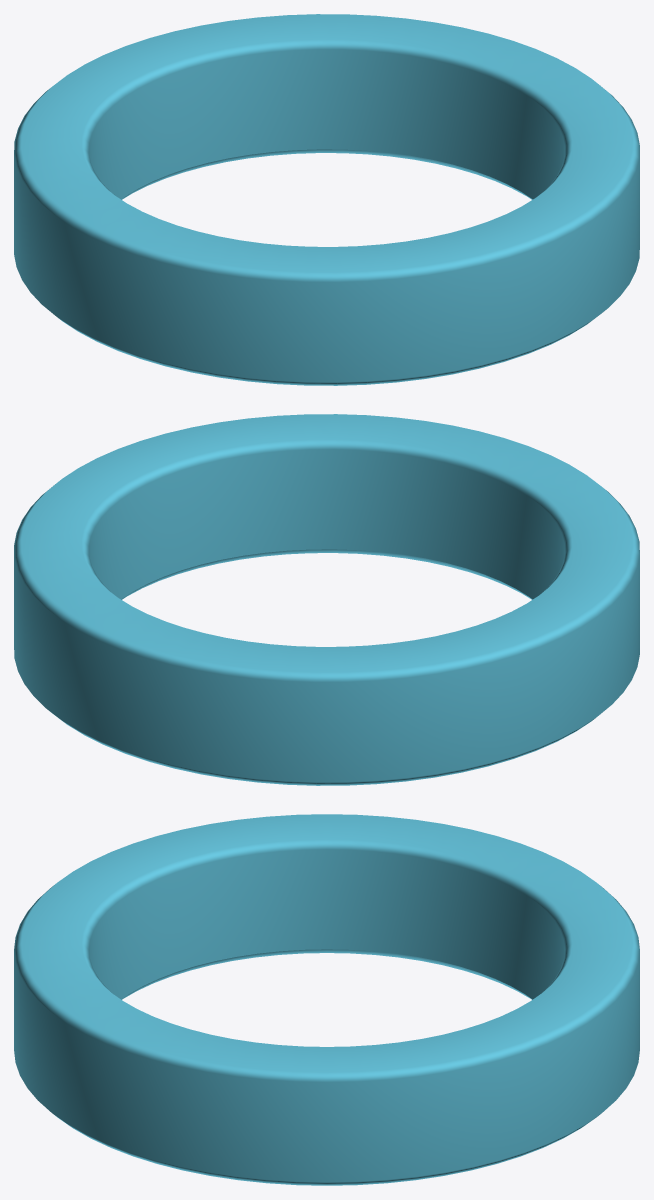
The picture shows the model from 3 angles, top to bottom: view 1: azimuth 30°, elevation 25°; view 2: azimuth 150°, elevation 25°; view 3: azimuth 270°, elevation 25°; orthographic projection.
Visible parts, largest first — view 1: seal_body; view 2: seal_body; view 3: seal_body.
Boxes of the visible parts, x1,y1,x2,y2 form: seal_body: (14,14,639,385); seal_body: (14,414,639,785); seal_body: (14,814,639,1185).
Bounding box in the file's own units: 0.0794 × 0.0159 × 0.0794.
